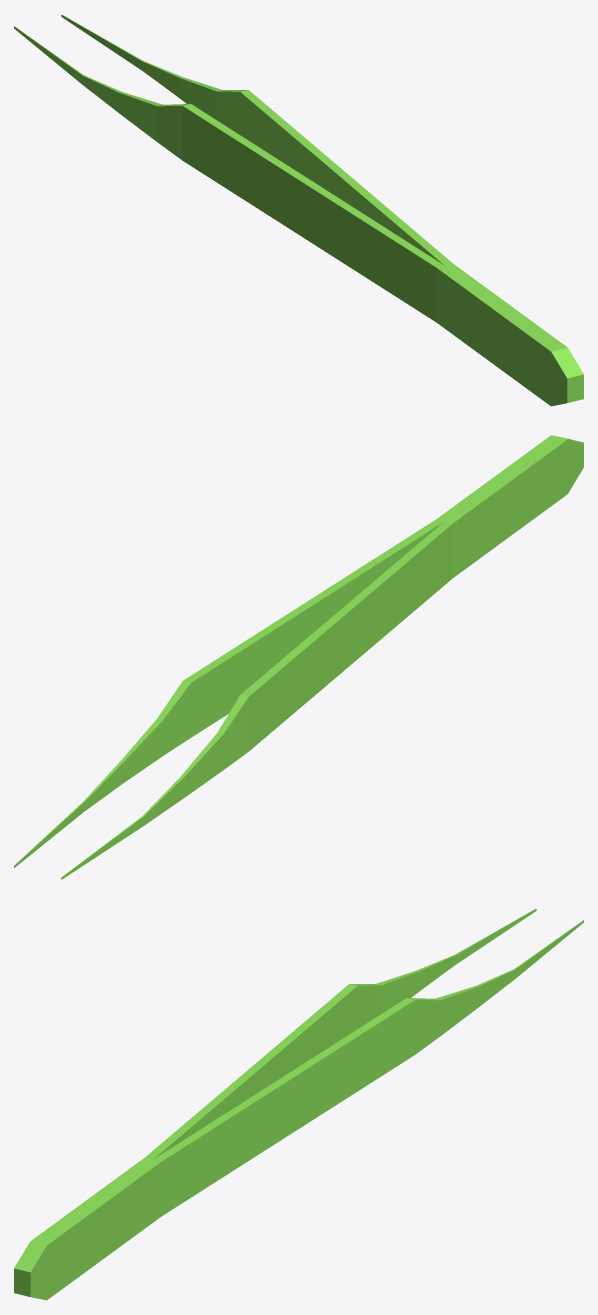
The model's file is Pinset_01.fbx.
3 renders of one model, top to bottom at view 1: azimuth 30°, elevation 25°; view 2: azimuth 150°, elevation 25°; view 3: azimuth 330°, elevation 25°, orthographic.
Parts seen in each view (by area): view 1: Pinset_01; view 2: Pinset_01; view 3: Pinset_01.
Boxes of the visible parts, x1=… form: Pinset_01: x1=14, y1=14, x2=583, y2=406; Pinset_01: x1=14, y1=435, x2=583, y2=879; Pinset_01: x1=14, y1=908, x2=583, y2=1300.
Bounding box in the file's own units: 1.37 × 1.09 × 19.37.
